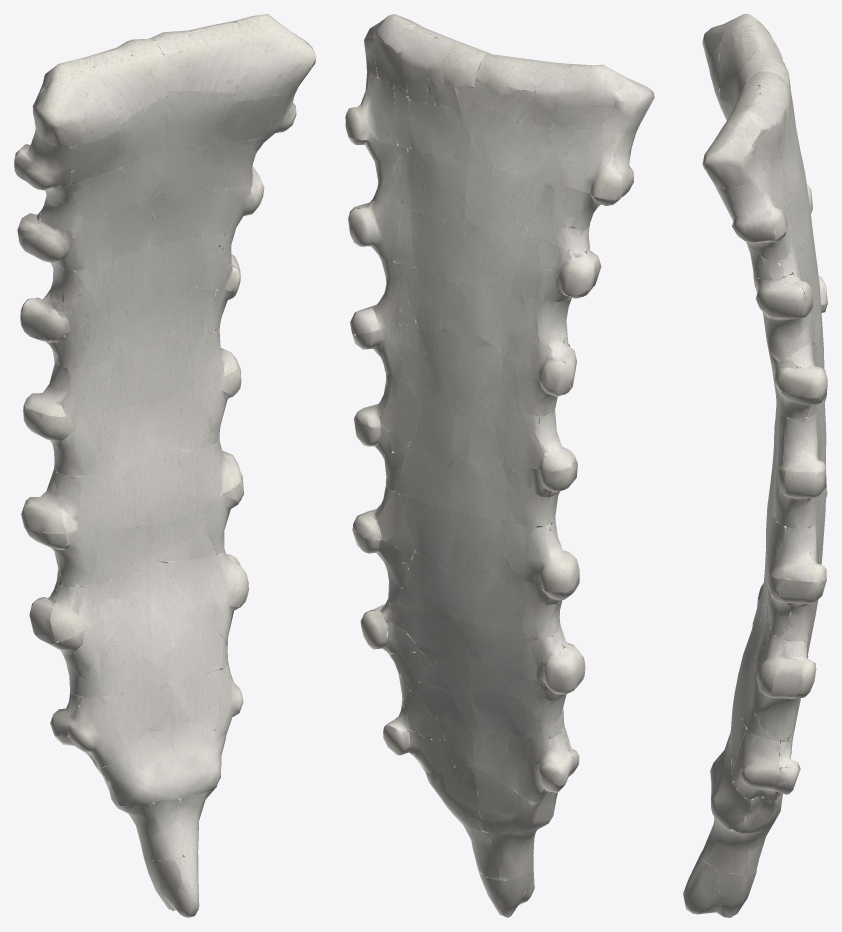
File: PATIENT_Sternum.glb
The picture shows the model from 3 angles, left to right: view 1: azimuth 30°, elevation 25°; view 2: azimuth 150°, elevation 25°; view 3: azimuth 270°, elevation 25°; orthographic projection. The views are drawn at different scales.
Visible parts, largest first — view 1: PATIENT_Sternum; view 2: PATIENT_Sternum; view 3: PATIENT_Sternum.
Boxes of the visible parts, <box> form: PATIENT_Sternum: <box>14,14,316,917</box>; PATIENT_Sternum: <box>345,14,654,917</box>; PATIENT_Sternum: <box>683,14,827,917</box>.
Size of the model in its own units: 0.0563 by 0.17 by 0.0261.
Materials: 1 (1 with a texture image).
